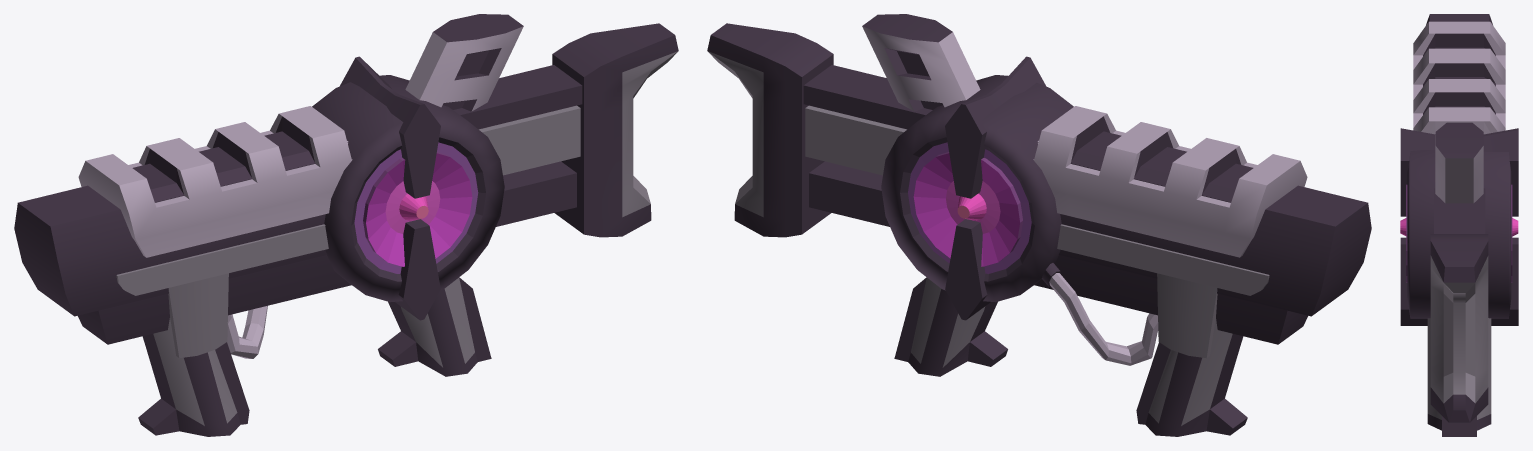
The model's file is Gun5.fbx.
The picture shows the model from 3 angles, left to right: view 1: azimuth 30°, elevation 25°; view 2: azimuth 150°, elevation 25°; view 3: azimuth 270°, elevation 25°; orthographic projection. The views are drawn at different scales.
Parts seen in each view (by area): view 1: pasted__pCube1 (×4), pasted__pasted__pCube1 (×4), pCylinder1, pasted__pasted__pasted__pCube1 (×3), pCube1, pasted__pCube2, pCube2, pCube3; view 2: pasted__pCube1 (×4), pasted__pasted__pCube1 (×4), pCylinder1, pasted__pasted__pasted__pCube1 (×3), pCube1, pasted__pCube2, pCube2, pCube3; view 3: pasted__pasted__pasted__pCube1 (×2), pasted__pCube1 (×2), pCylinder1, pasted__pasted__pCube1 (×2), pasted__pCube2, pCube2.
Part boxes in pixels (<box>): pasted__pCube1 (×4): <box>78,106,491,376</box>; pasted__pasted__pCube1 (×4): <box>14,14,580,436</box>; pCylinder1: <box>312,75,504,302</box>; pasted__pasted__pasted__pCube1 (×3): <box>347,23,678,237</box>; pCube1: <box>78,255,351,344</box>; pasted__pCube2: <box>340,56,440,198</box>; pCube2: <box>395,219,440,320</box>; pCube3: <box>227,305,267,358</box>; pasted__pCube1 (×4): <box>894,106,1307,376</box>; pasted__pasted__pCube1 (×4): <box>805,14,1371,436</box>; pCylinder1: <box>881,75,1073,302</box>; pasted__pasted__pasted__pCube1 (×3): <box>707,23,1038,237</box>; pCube1: <box>1034,255,1307,344</box>; pasted__pCube2: <box>945,56,1045,198</box>; pCube2: <box>945,219,990,320</box>; pCube3: <box>1042,263,1158,365</box>; pasted__pasted__pasted__pCube1 (×2): <box>1430,188,1488,422</box>; pasted__pCube1 (×2): <box>1413,21,1505,436</box>; pCylinder1: <box>1400,150,1518,318</box>; pasted__pasted__pCube1 (×2): <box>1426,14,1492,203</box>; pasted__pCube2: <box>1400,128,1518,216</box>; pCube2: <box>1400,237,1518,325</box>.
Bounding box in the file's own units: 15.69 × 7.83 × 2.78.
